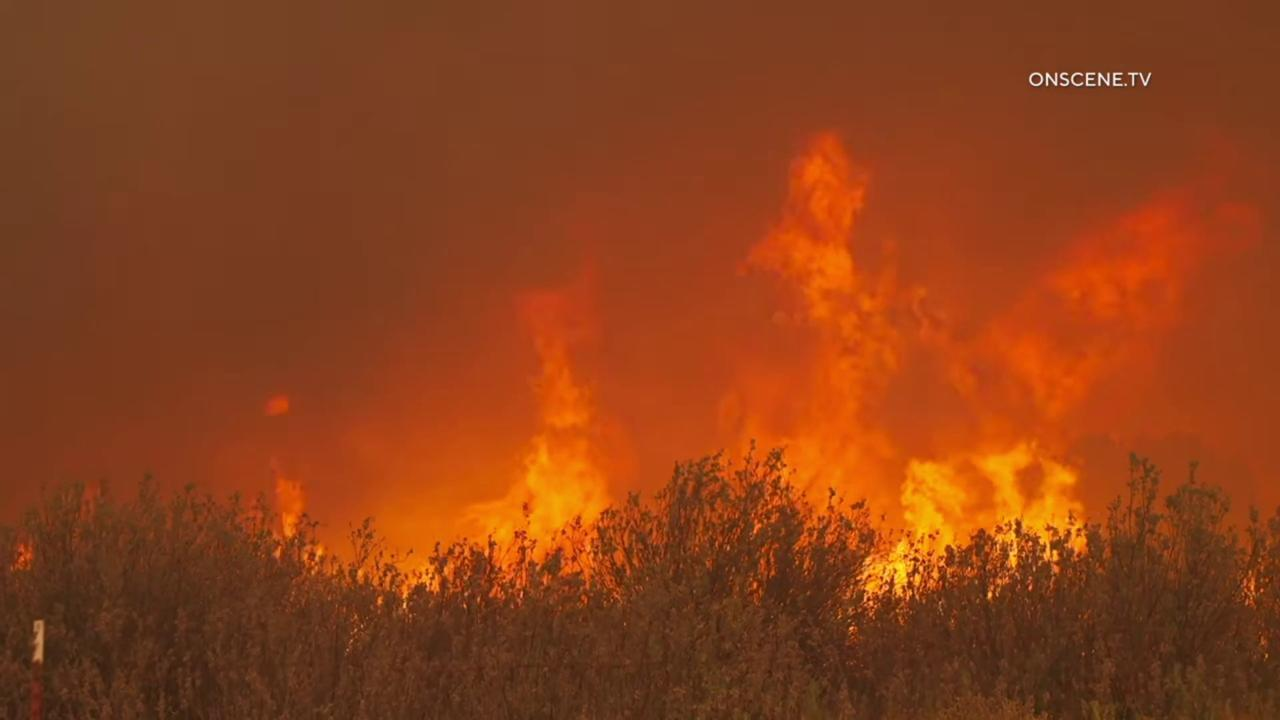fire: (711, 118, 1267, 621), (245, 213, 634, 622), (8, 538, 39, 575), (255, 388, 291, 416)
smoke: (0, 0, 1280, 659)
